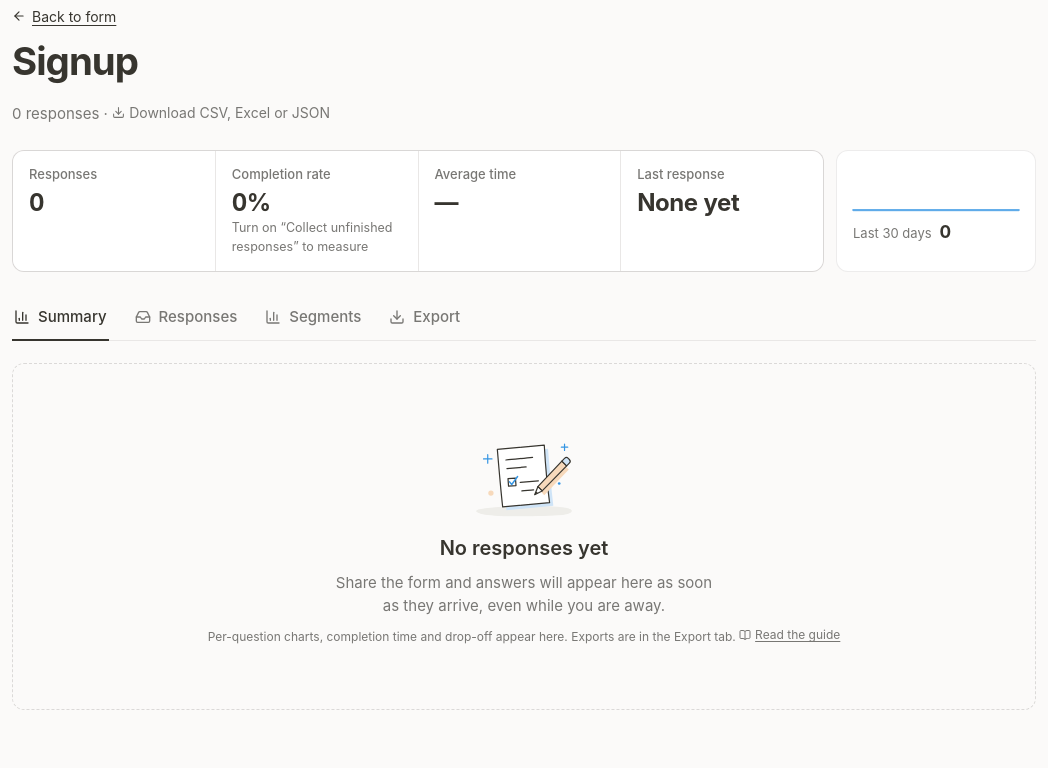
results empty states › keeps the responses skeleton while the first page loads
The width and height of the screenshot is (1048, 768).
Click the tab "Responses" at (186, 318), box [132,294,239,341]
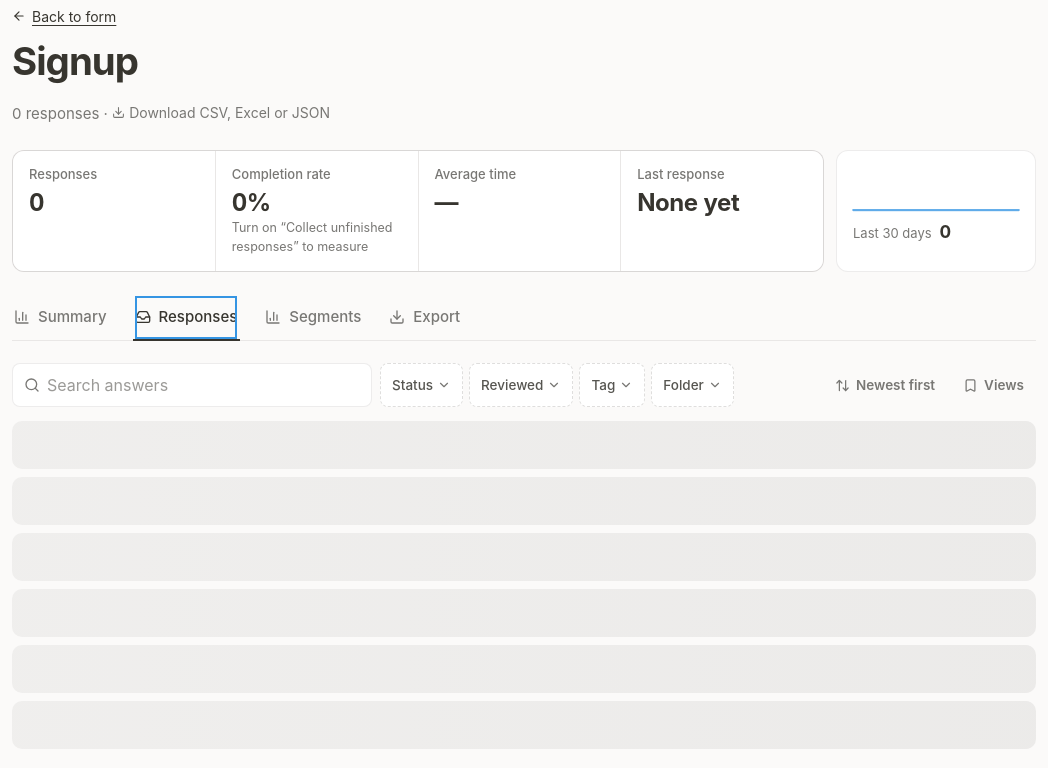
Expected: the icon with class "state-illustration" is gone
